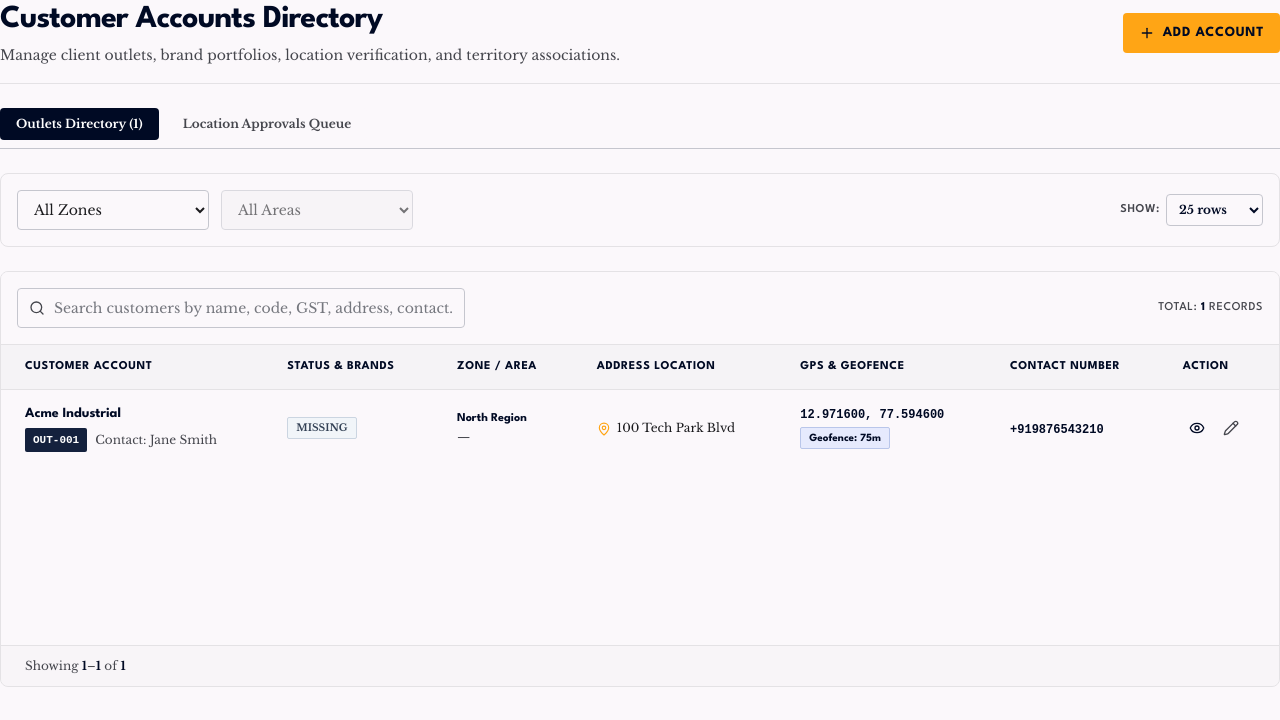
CustomersPage › opens the edit form pre-filled with the existing record (FT-014)
expect the text "Acme Industrial" is shown: met, box top-left (25, 407), bottom-right (121, 420)
Step 1. Click the button named "edit" → click(1231, 428), box top-left (1217, 414), bottom-right (1245, 442)
(page scrolled)
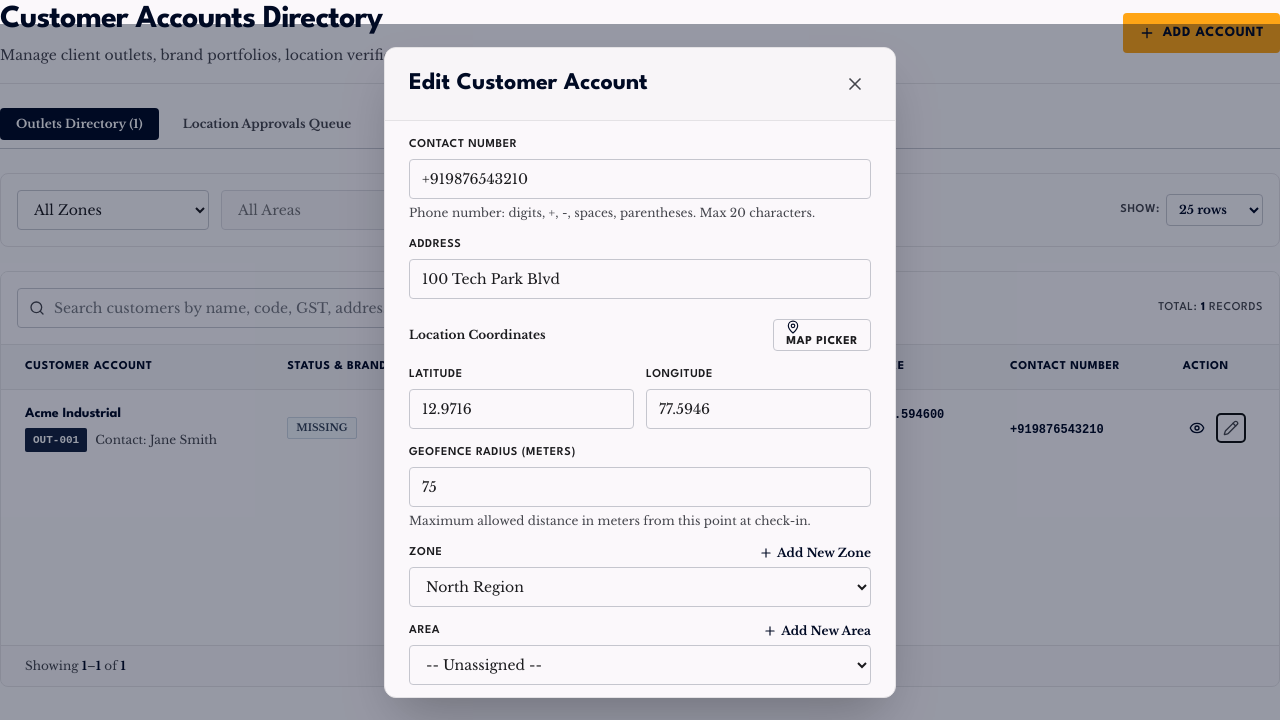
expect the heading "Edit Customer Account" is shown: met, box top-left (409, 68), bottom-right (648, 99)
expect the number field labelled "Latitude" holds "12.9716": met, box top-left (409, 388), bottom-right (634, 428)
